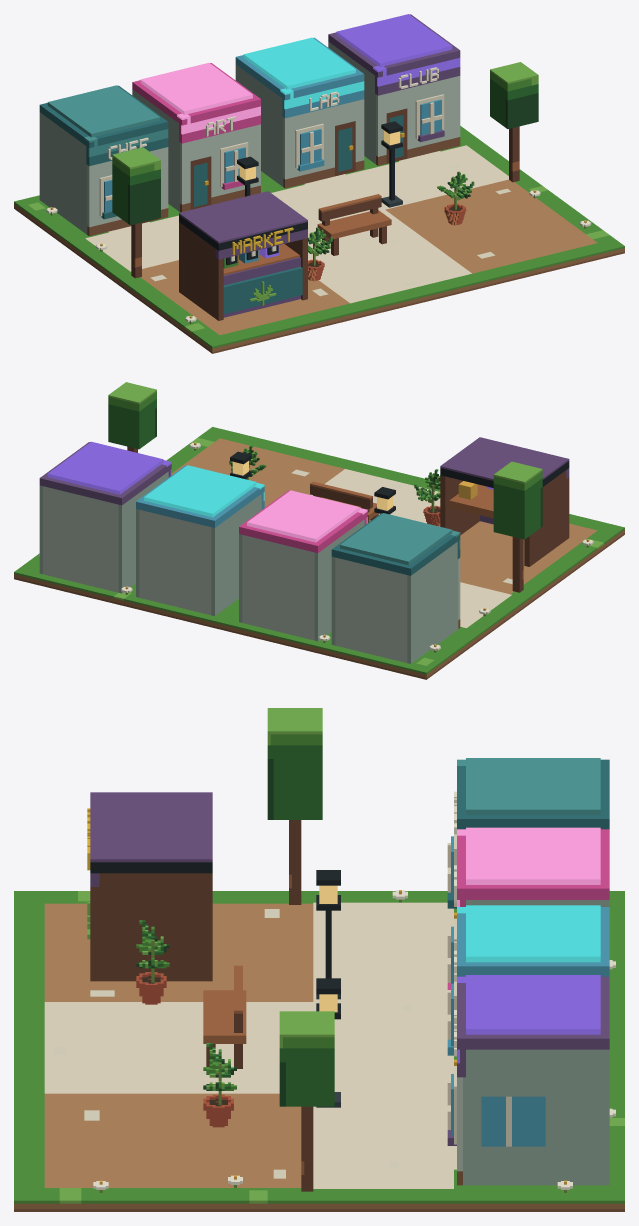
The model's file is neighbor_commons.glb.
3 renders of one model, top to bottom at view 1: azimuth 30°, elevation 25°; view 2: azimuth 150°, elevation 25°; view 3: azimuth 270°, elevation 25°, orthographic. The views are drawn at different scales.
Visible parts, largest first — view 1: neighbor_commons; view 2: neighbor_commons; view 3: neighbor_commons.
Part boxes in pixels (x1,y1,x2,y2): neighbor_commons: [14, 14, 624, 353]; neighbor_commons: [14, 382, 624, 679]; neighbor_commons: [14, 708, 624, 1211].
Size of the model in its own units: 12 by 3.5 by 10.
2 materials, 2 textured.
